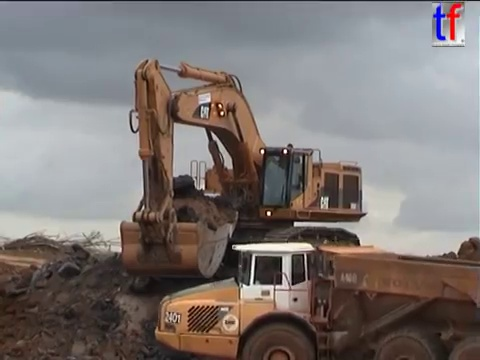excavator: (116, 55, 370, 283)
truck: (152, 236, 480, 360)
